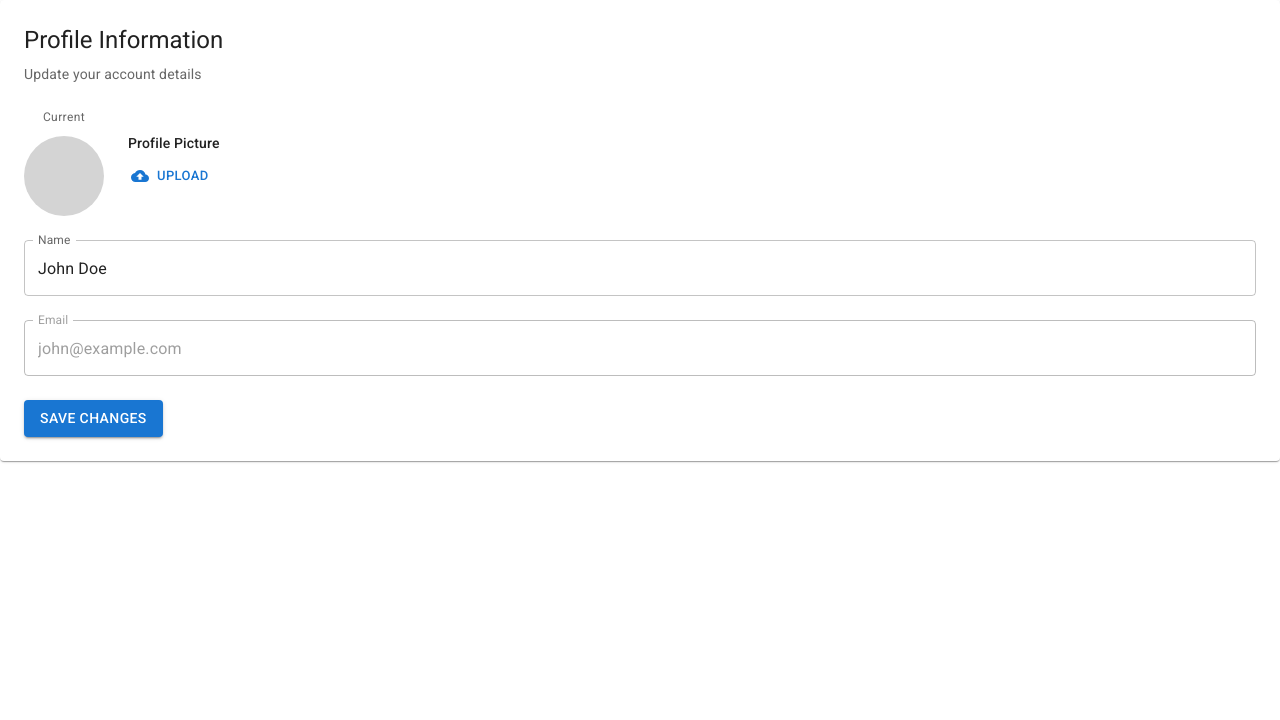
Scenario: ProfileUpdateForm › displays an error message if the upload fails
Click the button "Save Changes".
click(93, 419)  # box [24,400,163,437]
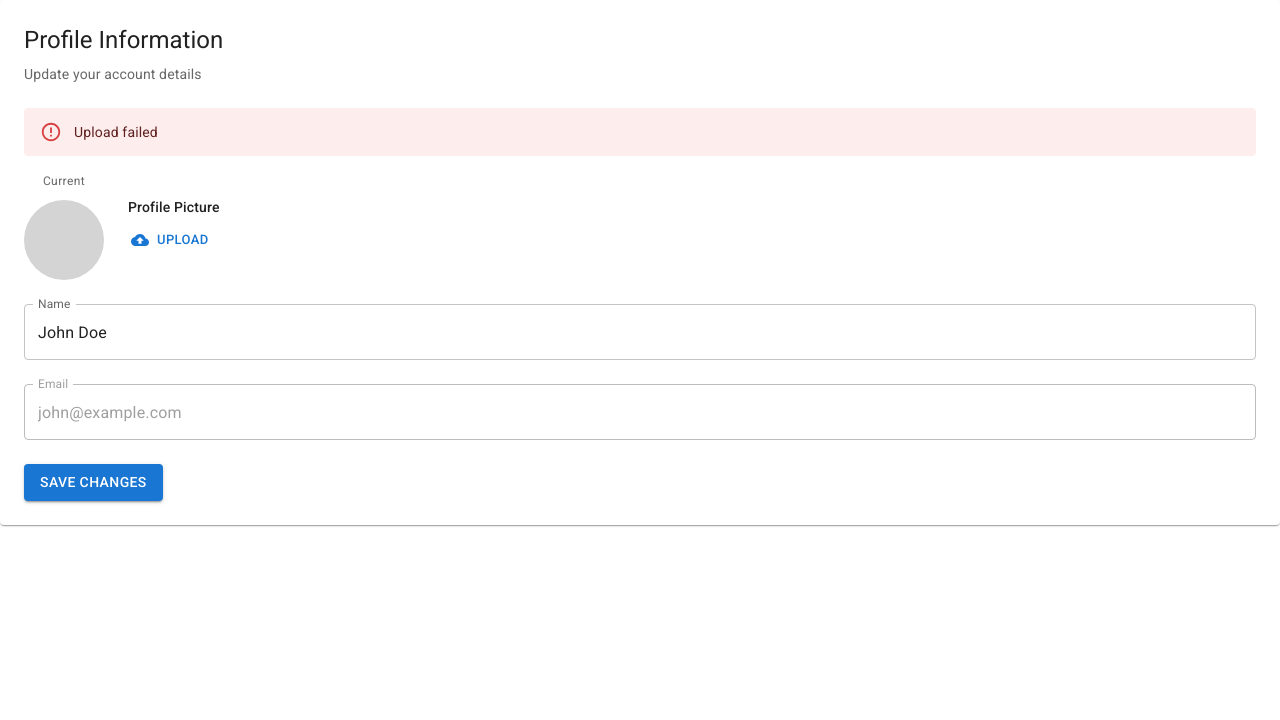
Check: the text "Upload failed" is shown, box [74,124,158,140]
